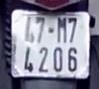0: (52, 46, 65, 74)
2: (37, 46, 50, 74)
4: (23, 15, 36, 44), (23, 45, 34, 74)
6: (67, 46, 79, 73)
7: (35, 16, 47, 43), (69, 17, 79, 45)
M: (55, 15, 68, 45)
